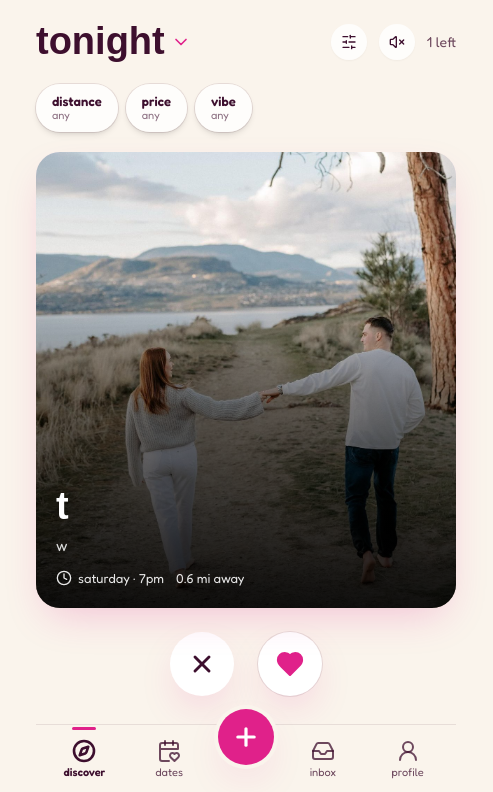
SwipeDeck — pick a day › a day with no nights keeps the chips on screen with an inline empty message
Click the button with aria-label "showing tonight".
click(113, 42)  # box [36,20,191,64]
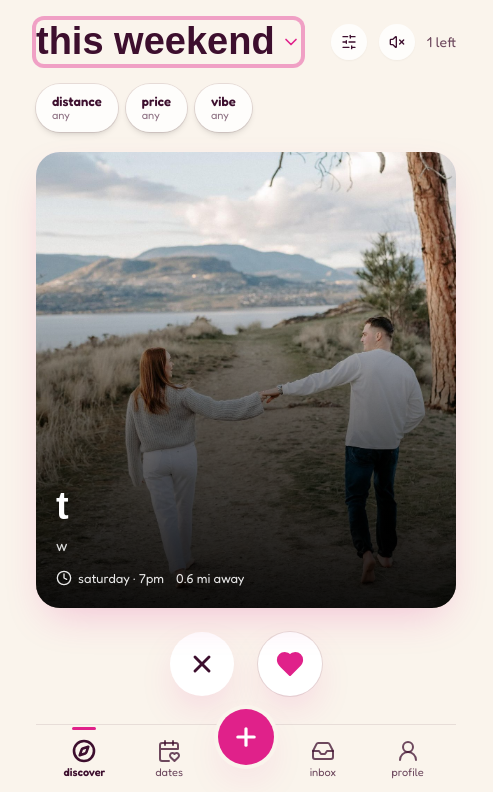
Click the button with aria-label "showing this weekend".
click(168, 42)  # box [36,20,301,64]
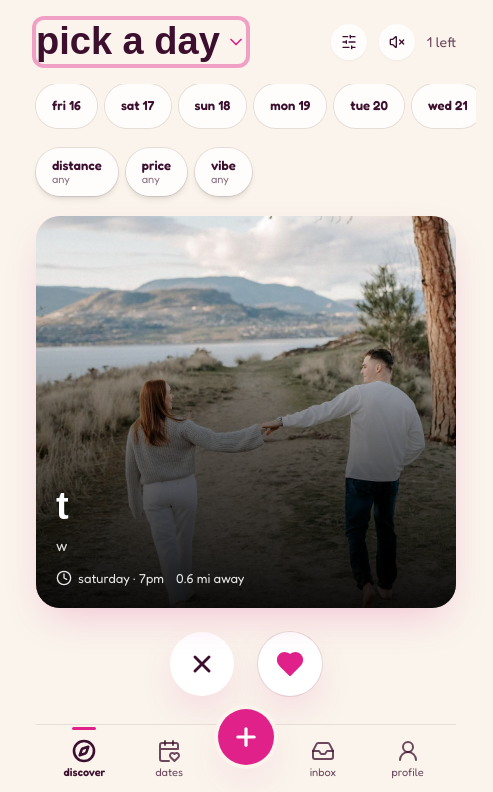
Click the button "sun 18".
click(212, 106)  # box [178,84,246,128]
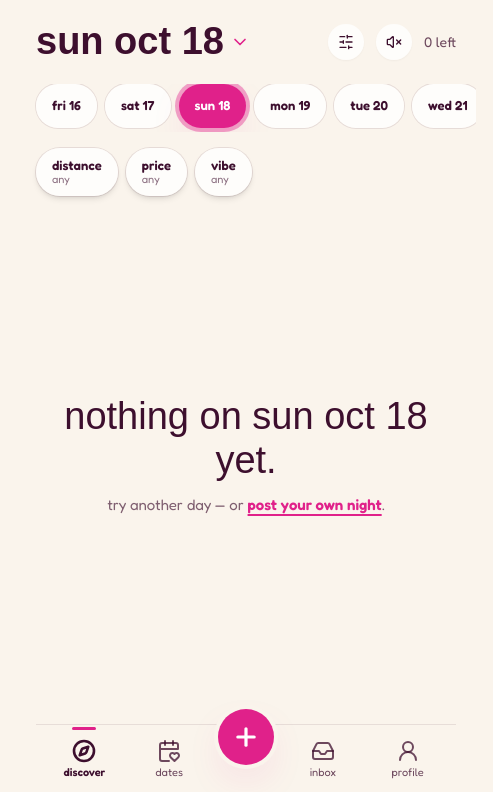
Check: the element named "pick a day" is shown, box [16,84,476,132]
Check: the text "nothing on sun oct 18 yet." is shown, box [52,395,440,482]
Click the button "sat 17".
click(138, 106)  # box [105,84,171,128]
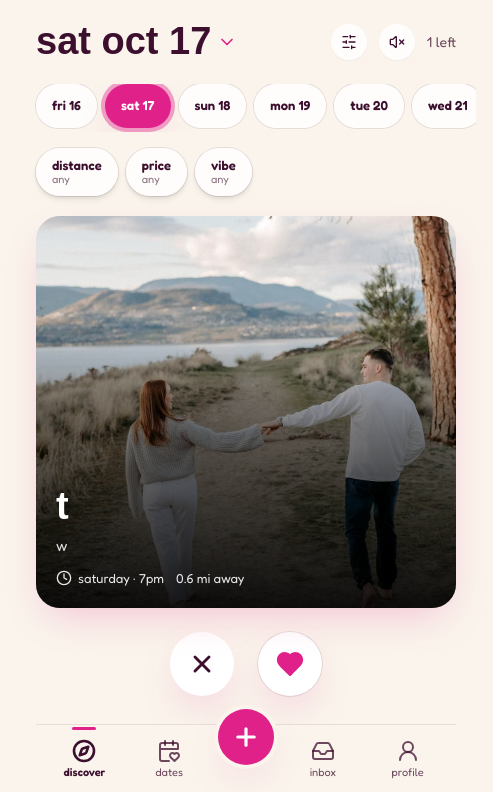
Check: the text "1 left" is shown, box [427,31,456,52]
